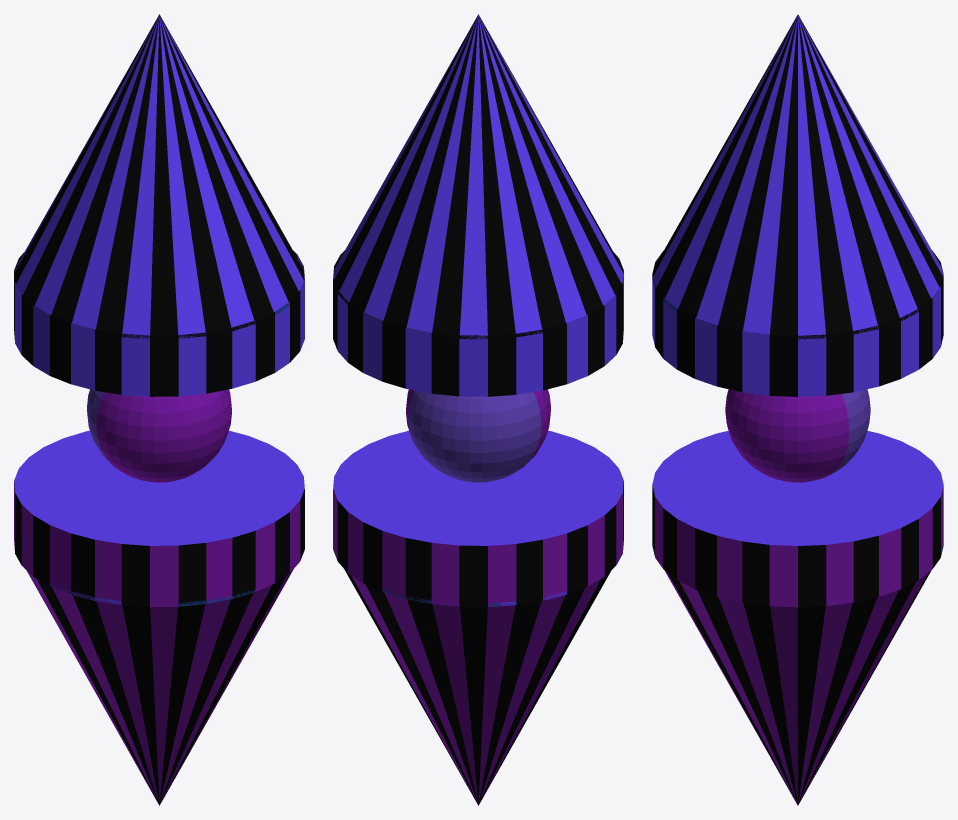
The model's file is Level20BF.fbx.
3 views of the same model, side by side, from view 1: azimuth 30°, elevation 25°; view 2: azimuth 150°, elevation 25°; view 3: azimuth 270°, elevation 25° (orthographic).
Visible parts, largest first — view 1: Cone, Cone.001, Sphere; view 2: Cone, Cone.001, Sphere; view 3: Cone, Cone.001, Sphere.
Boxes of the visible parts, bbox=[...] form: Cone: bbox=[14, 14, 304, 396]; Cone.001: bbox=[14, 430, 304, 805]; Sphere: bbox=[87, 389, 231, 482]; Cone: bbox=[333, 14, 623, 396]; Cone.001: bbox=[333, 430, 623, 805]; Sphere: bbox=[406, 389, 550, 482]; Cone: bbox=[652, 14, 943, 396]; Cone.001: bbox=[652, 431, 943, 805]; Sphere: bbox=[725, 389, 870, 482].
Bounding box in the file's own units: 200 × 600 × 200.
